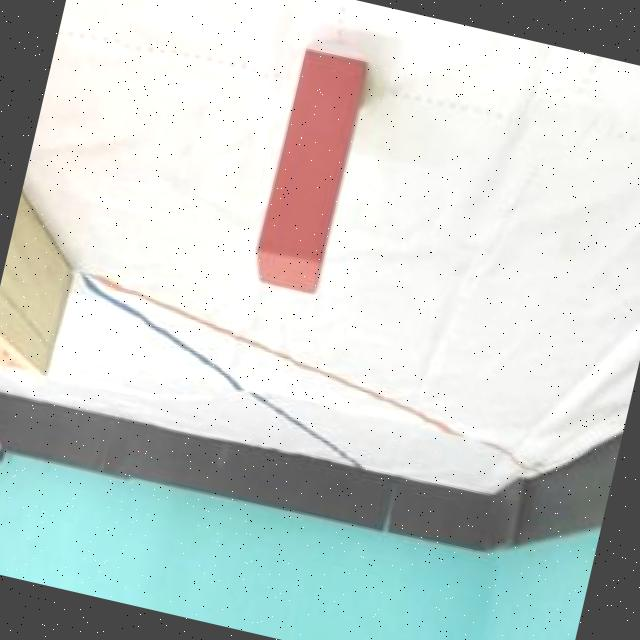redbox: (251, 49, 370, 294)
